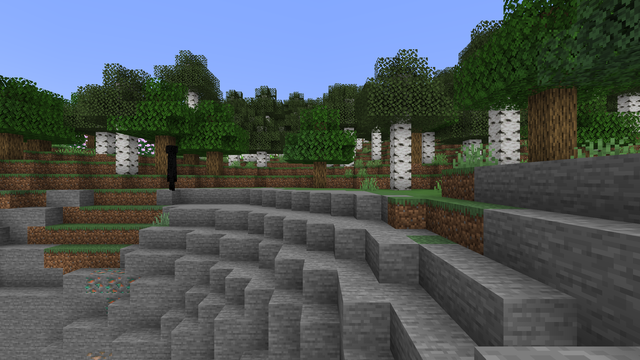endermens: (164, 143, 178, 189)
